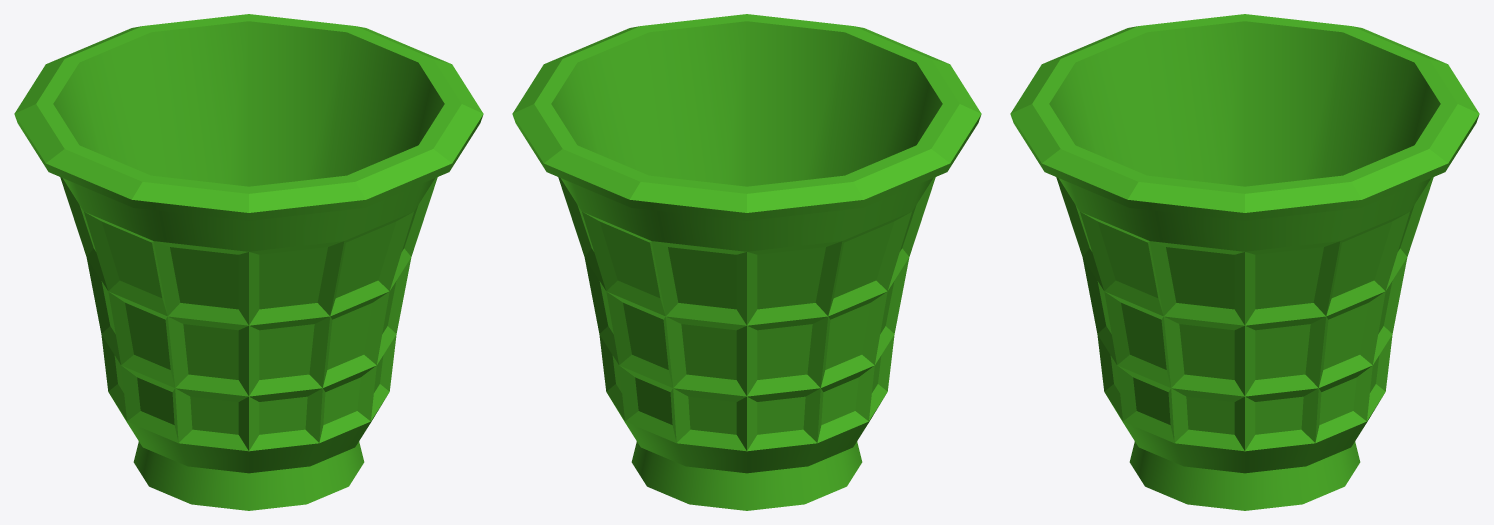
File: Kosz do śmieci.fbx
3 renders of one model, left to right at view 1: azimuth 30°, elevation 25°; view 2: azimuth 150°, elevation 25°; view 3: azimuth 270°, elevation 25°, orthographic.
Parts seen in each view (by area): view 1: Kubeł na śmieci; view 2: Kubeł na śmieci; view 3: Kubeł na śmieci.
Boxes of the visible parts, x1,y1,x2,y2 form: Kubeł na śmieci: (14, 14, 483, 510); Kubeł na śmieci: (512, 14, 981, 510); Kubeł na śmieci: (1010, 14, 1479, 510).
Size of the model in its own units: 36.62 by 30.85 by 36.62.
